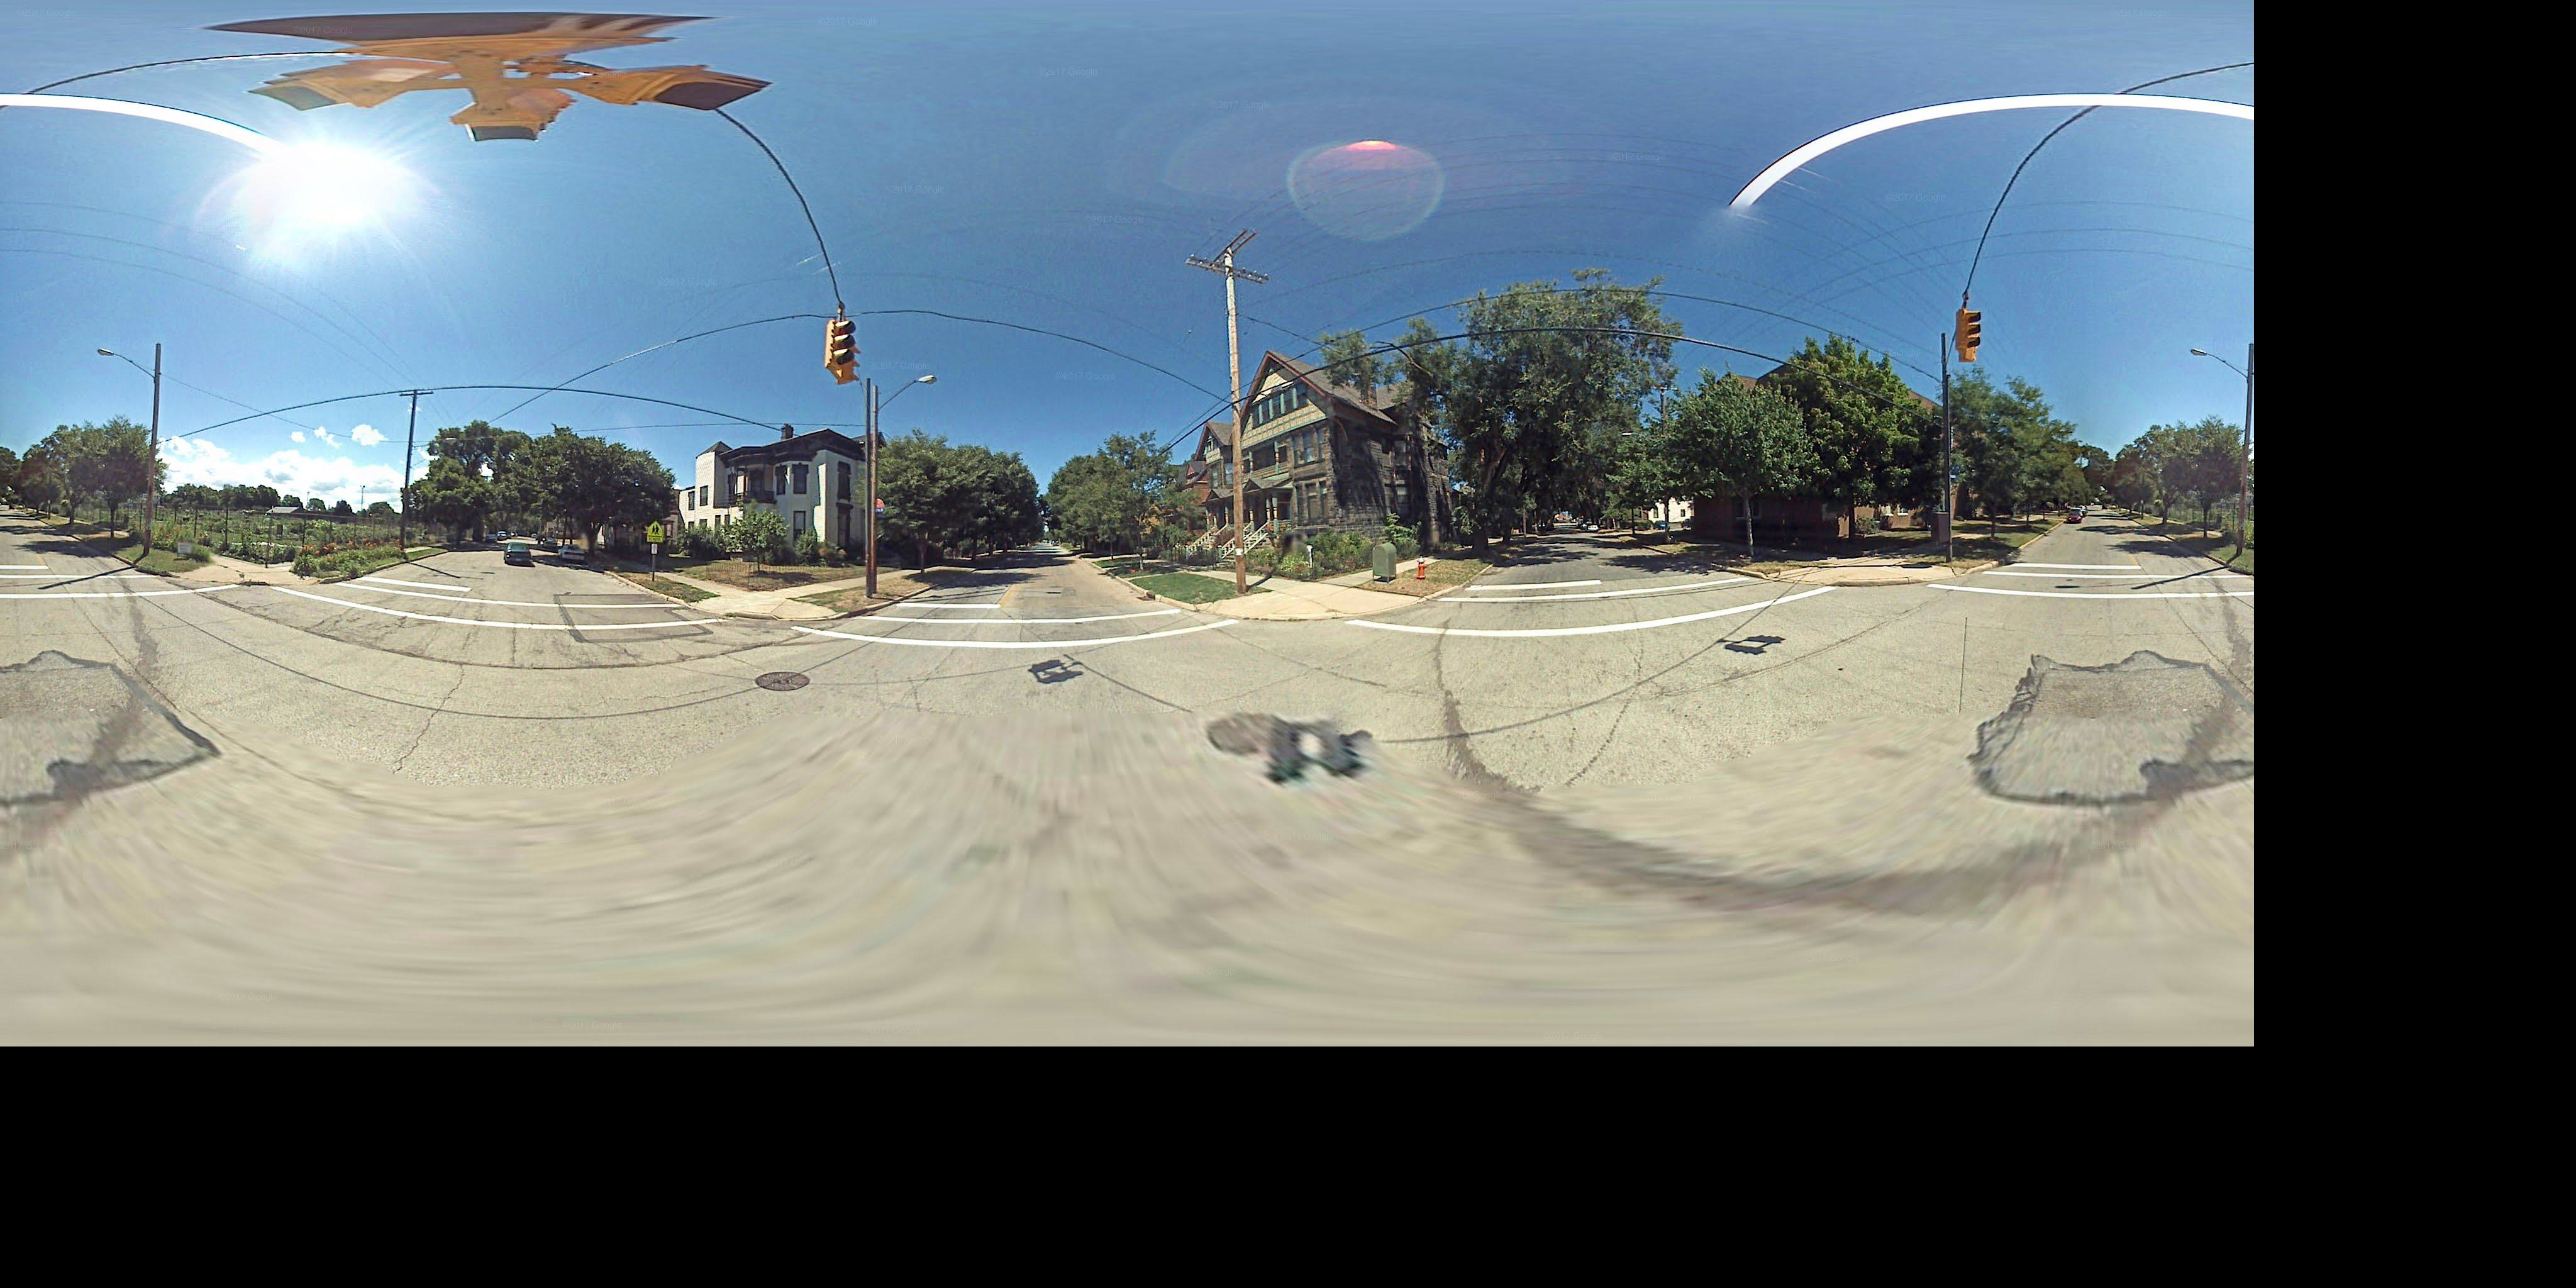Curb Ramp: (1181, 580, 1263, 632), (1334, 580, 1414, 631), (1763, 549, 1837, 598), (762, 588, 839, 634), (253, 559, 320, 605), (1894, 555, 1968, 591), (186, 549, 241, 596), (682, 583, 746, 624)
